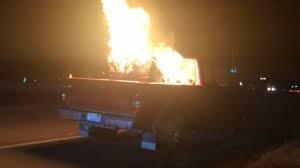fire: (103, 0, 202, 85)
